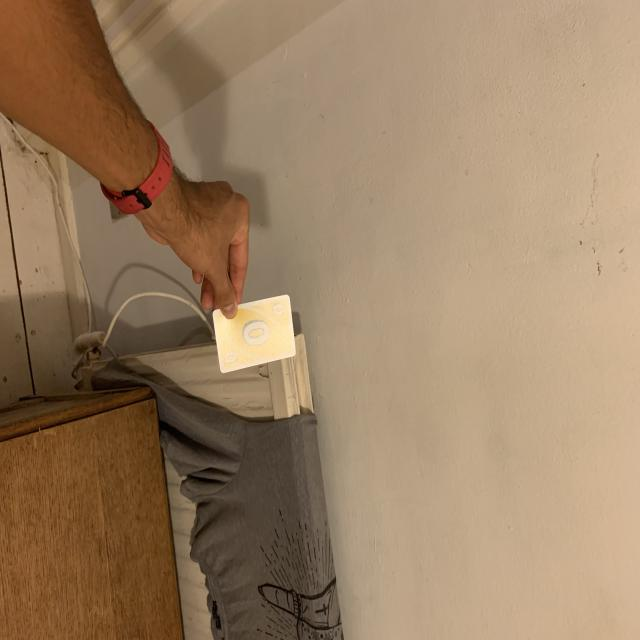lyellow-0: (270, 300, 288, 318)
